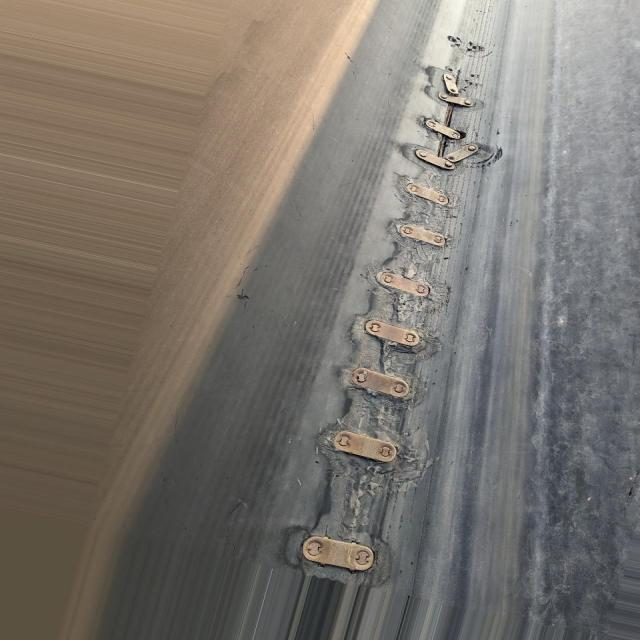patch work: (272, 23, 507, 589)
